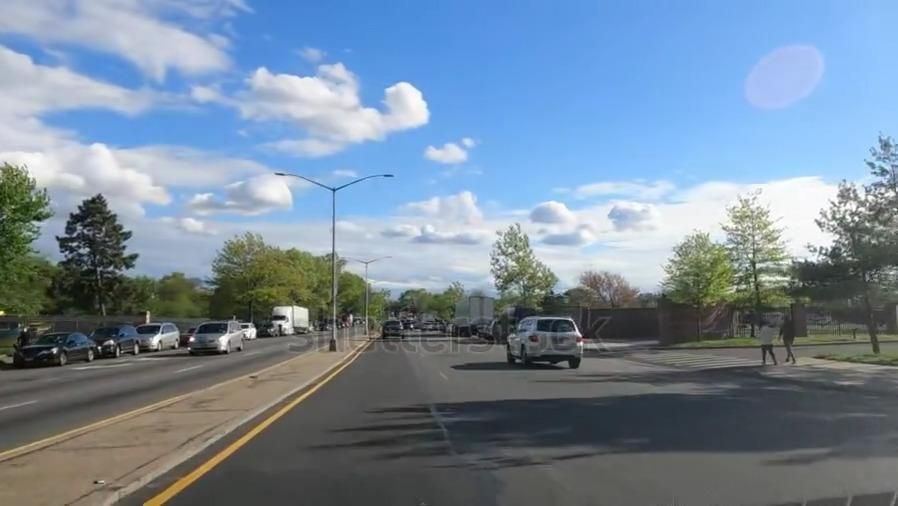car: (506, 316, 586, 370), (16, 335, 97, 362), (189, 317, 244, 354), (85, 328, 142, 354), (138, 322, 181, 351), (382, 318, 404, 340), (239, 321, 257, 339), (257, 322, 276, 337), (181, 323, 195, 343)
pedestrian: (605, 348, 783, 370)
person: (758, 314, 777, 371), (781, 313, 797, 368), (18, 323, 30, 343)
truck: (270, 304, 311, 338)
